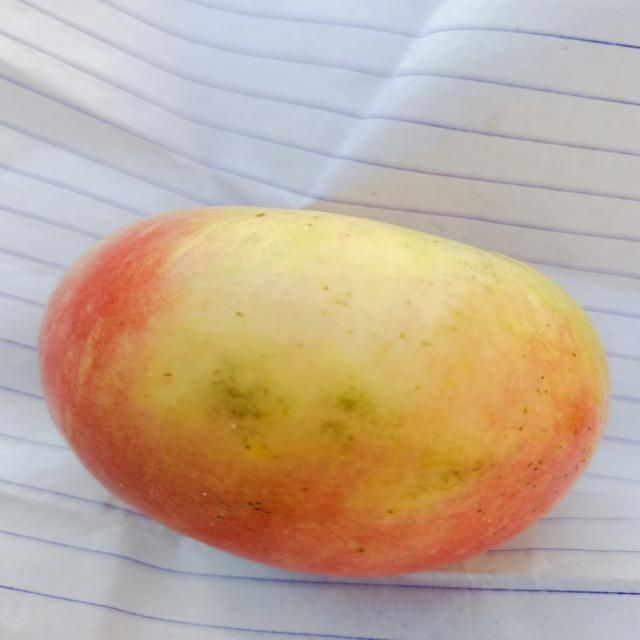Fresh Apple: (69, 207, 614, 570)
